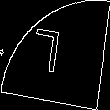L_S: (38, 27, 72, 83)
